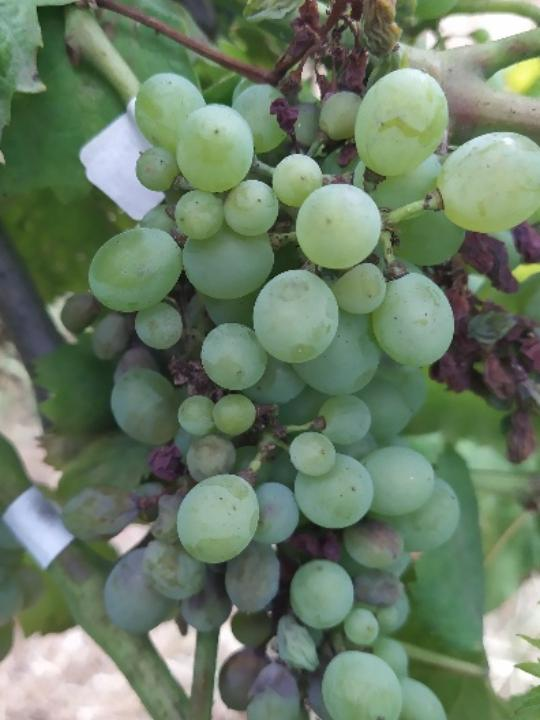grape: (57, 0, 540, 720)
